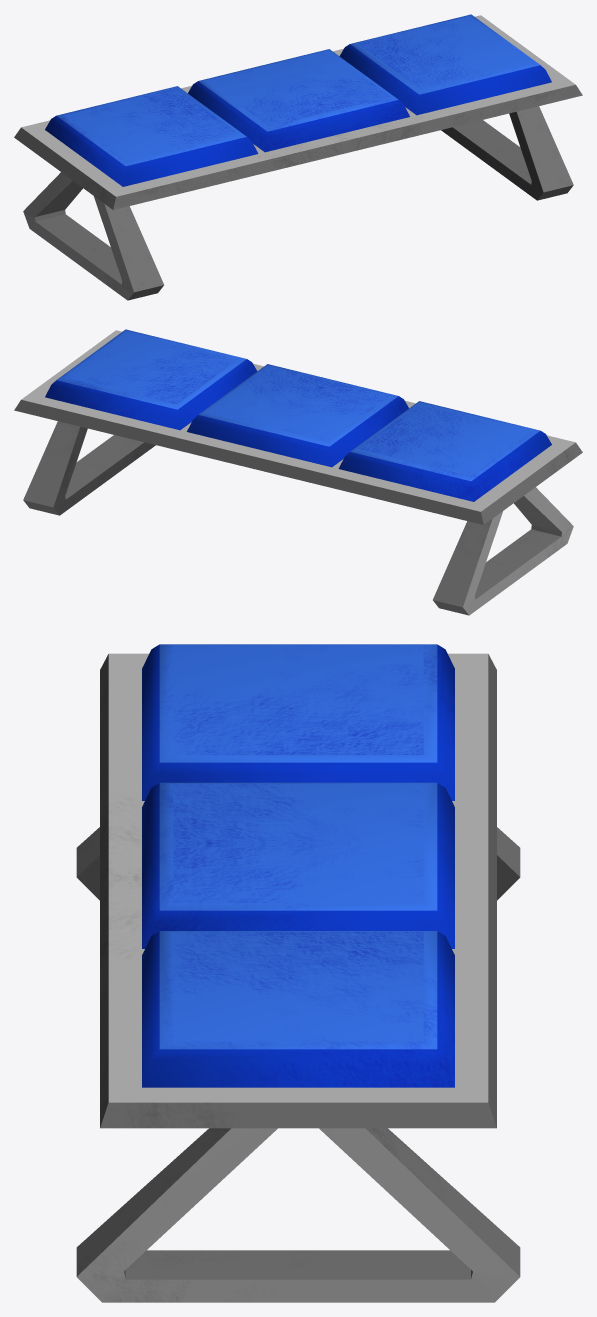
Rendered from 정류장 의자.fbx.
The picture shows the model from 3 angles, top to bottom: view 1: azimuth 30°, elevation 25°; view 2: azimuth 150°, elevation 25°; view 3: azimuth 270°, elevation 25°; orthographic projection. The views are drawn at different scales.
Visible parts, largest first — view 1: Cube; view 2: Cube; view 3: Cube.
Part boxes in pixels (left/top/right/bottom): Cube: left=14, top=14, right=582, bottom=300; Cube: left=14, top=329, right=582, bottom=615; Cube: left=76, top=644, right=520, bottom=1302.
Bounding box in the file's own units: 1696 × 422 × 693.
Materials: 1 (1 with a texture image).
